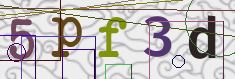3: (140, 13, 177, 60)
5: (6, 14, 38, 63)
d: (185, 13, 224, 62)
f: (94, 15, 130, 61)
p: (47, 13, 86, 61)
